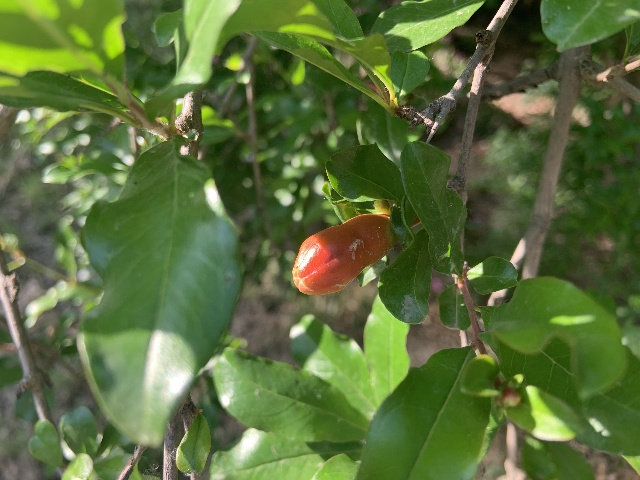bud: (291, 211, 394, 295)
